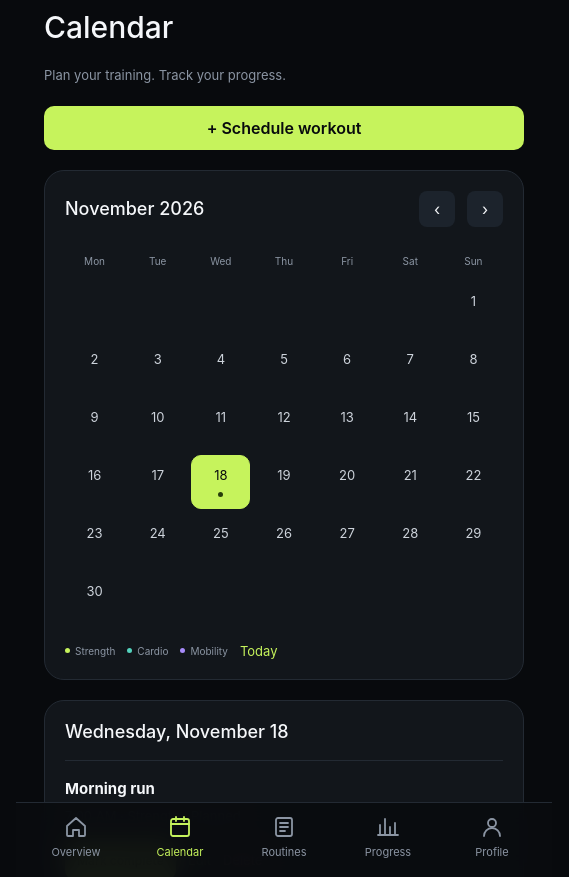
Test: Testing the selected day only shows its workouts in time order
Click the button named "Next month" at x=485, y=209, box top-left (467, 191), bottom-right (503, 227)
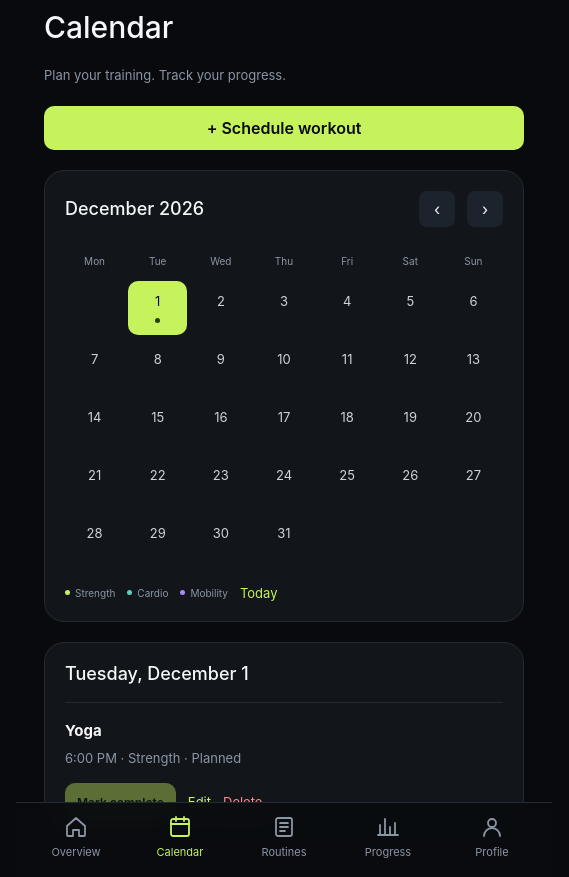
Click the button named "December 2, 2026, 0 workouts" at x=221, y=308, box top-left (191, 281), bottom-right (250, 335)
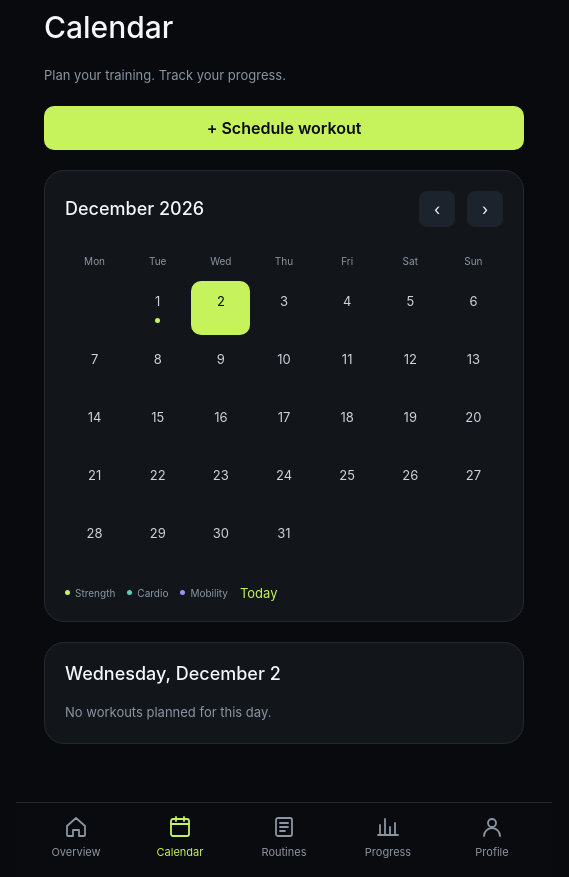
Expected: the heading "Yoga" is gone
Click the button named "December 1, 2026, 1 workouts" at x=158, y=308, box top-left (128, 281), bottom-right (187, 335)
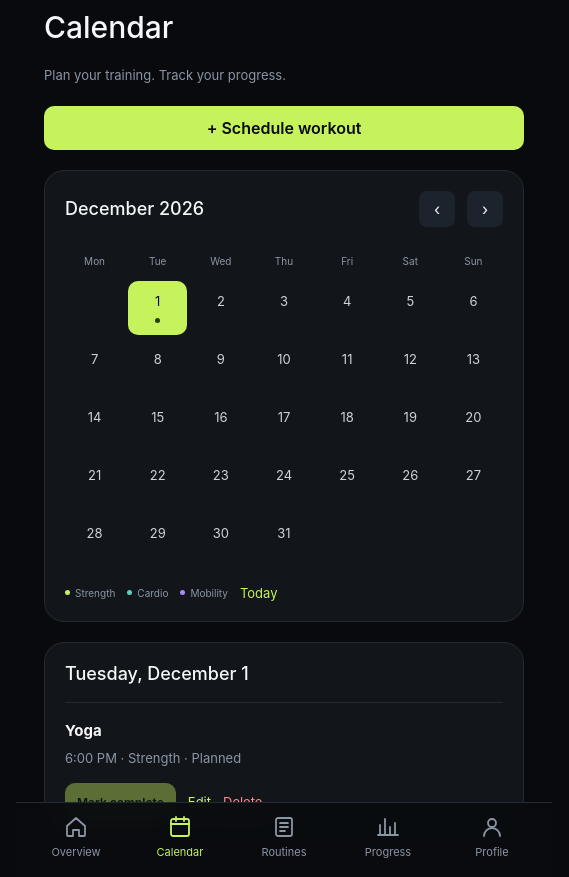
Expected: the heading "Yoga" is shown, top-left (65, 721), bottom-right (102, 740)
